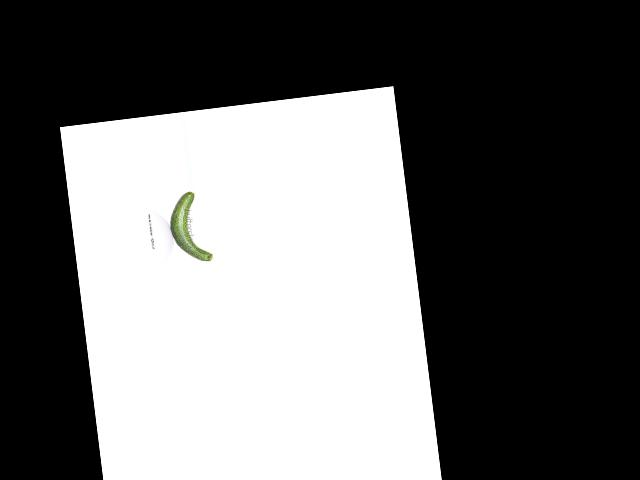cucumber: (166, 190, 213, 265)
